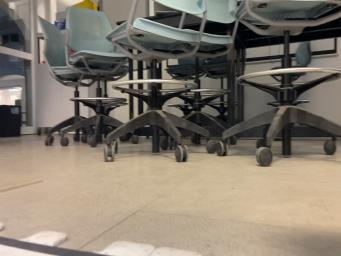street: (0, 236, 101, 256), (0, 236, 101, 256), (0, 236, 101, 256)
